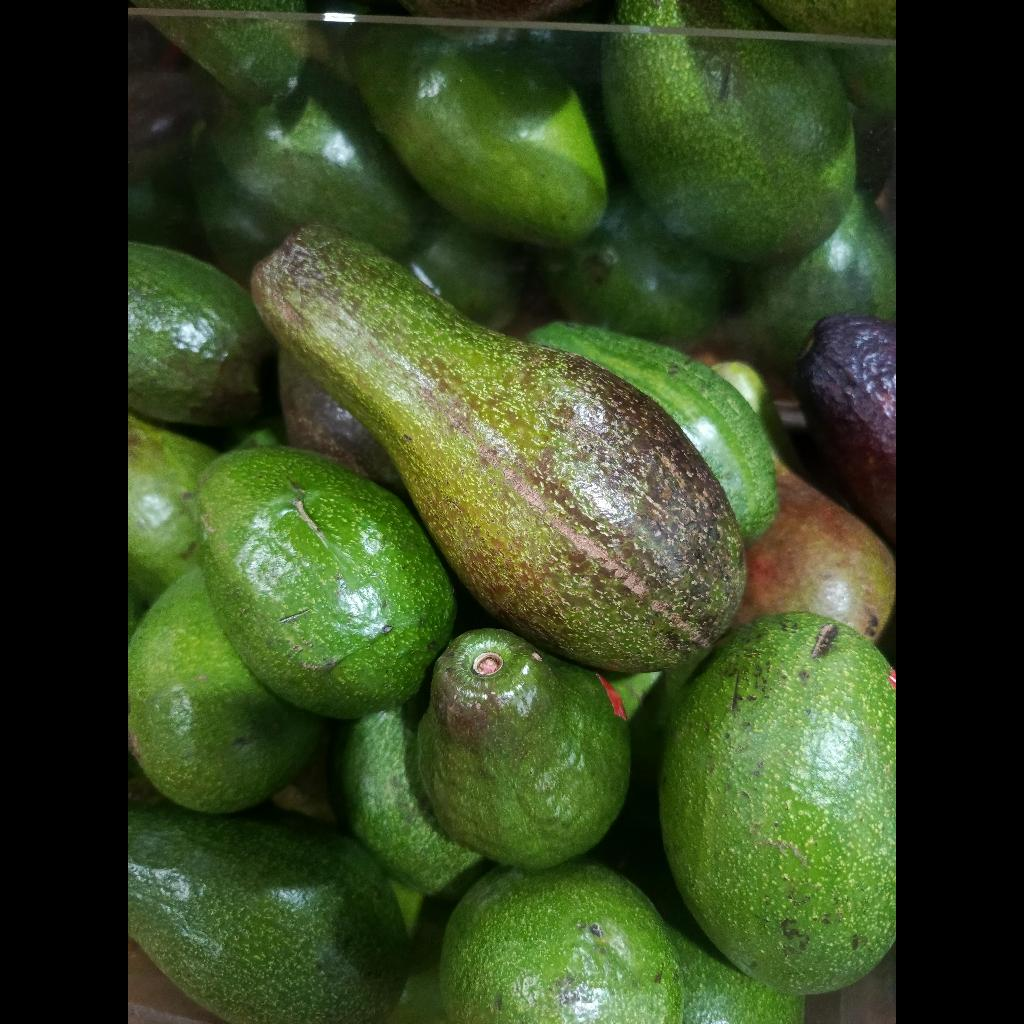rona: (252, 224, 745, 672), (658, 613, 896, 995), (198, 447, 455, 719)
